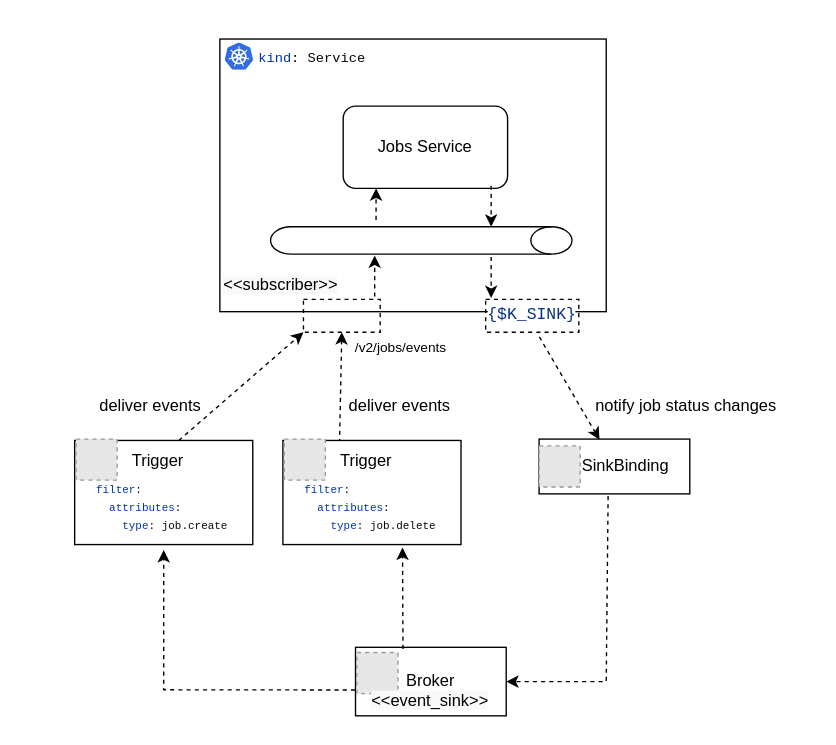
Some shapes in this 836 by 745 pixel diagram are drawn without their labels. Grey dashed boxes stand in for pictures. The shapes that lost their labels are listed below. From the top down, each one's centre as x and y in pixels, then its label:
At (420,239): "quarkus-reactive-messaging-http".
At (341,315): "Endpoint".
